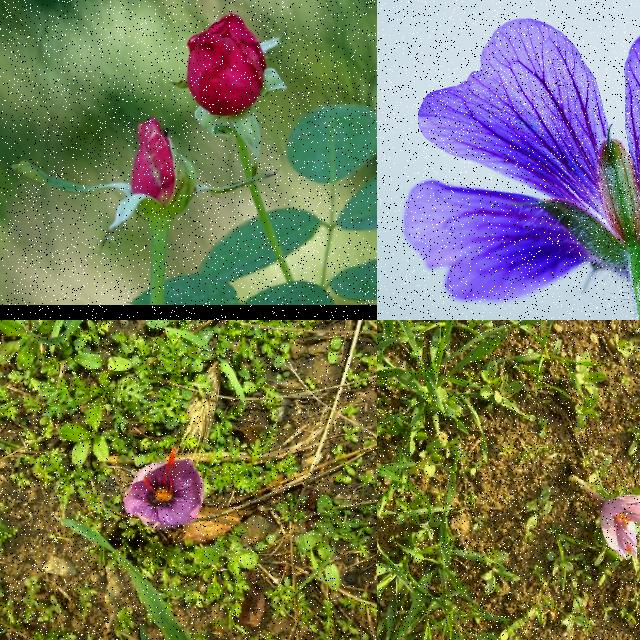flower: (123, 450, 204, 530), (599, 493, 640, 560)
